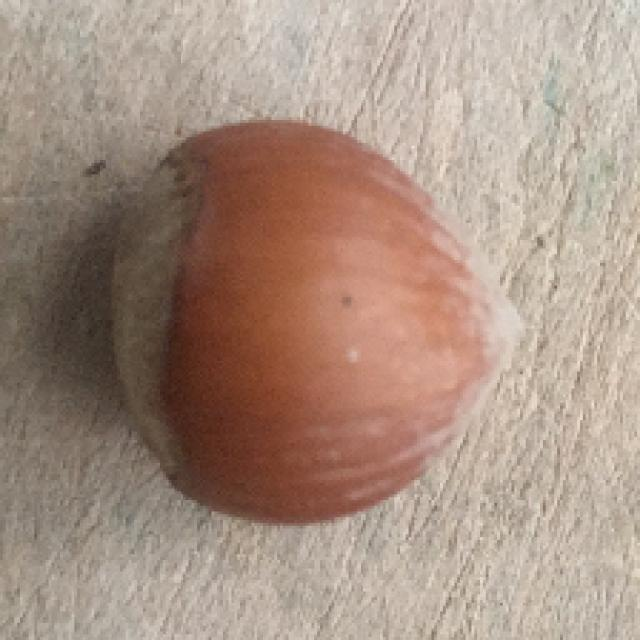qualityHazelnut: (103, 115, 535, 532)
